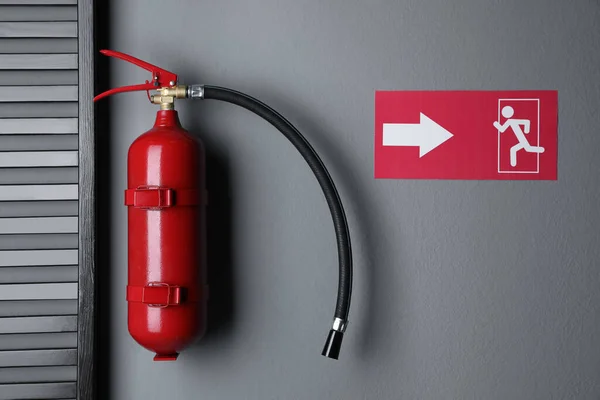fire_extinguisher: (93, 48, 354, 363)
